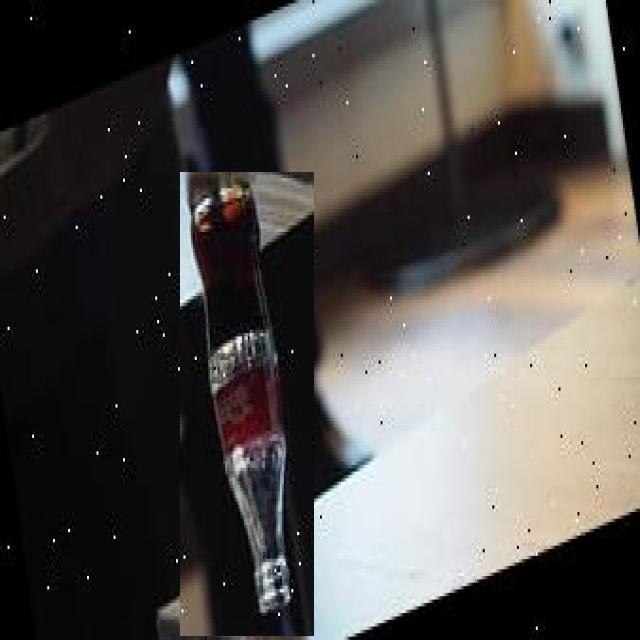coca-cola: (180, 172, 314, 636)
